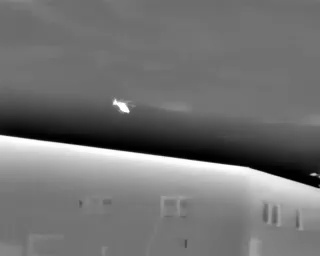HELICOPTER: (109, 95, 140, 119)
